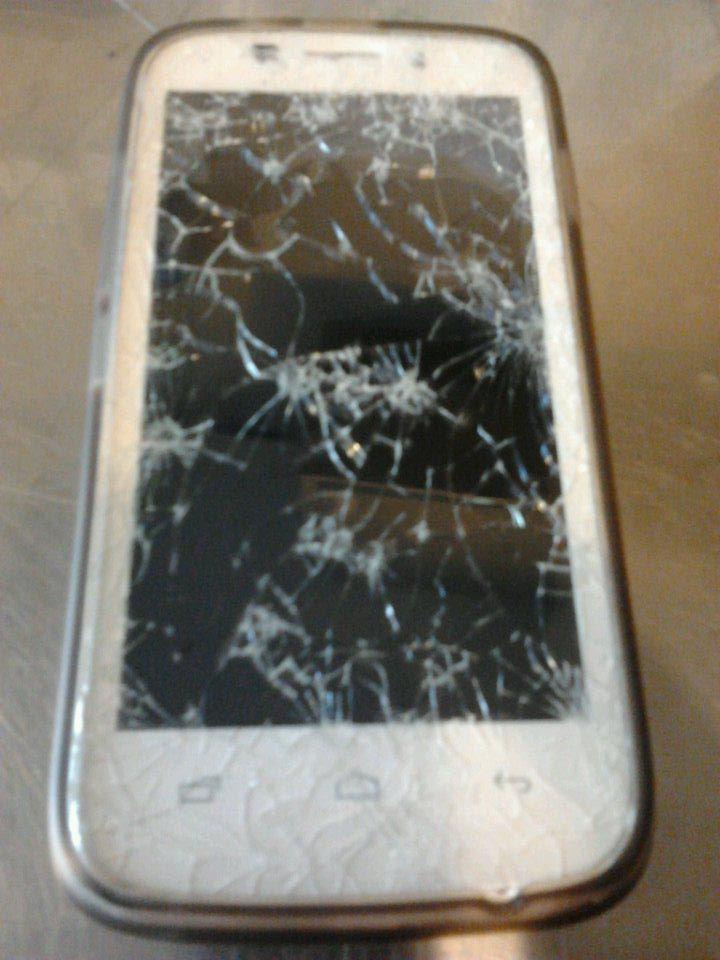Phone: (48, 15, 658, 944)
